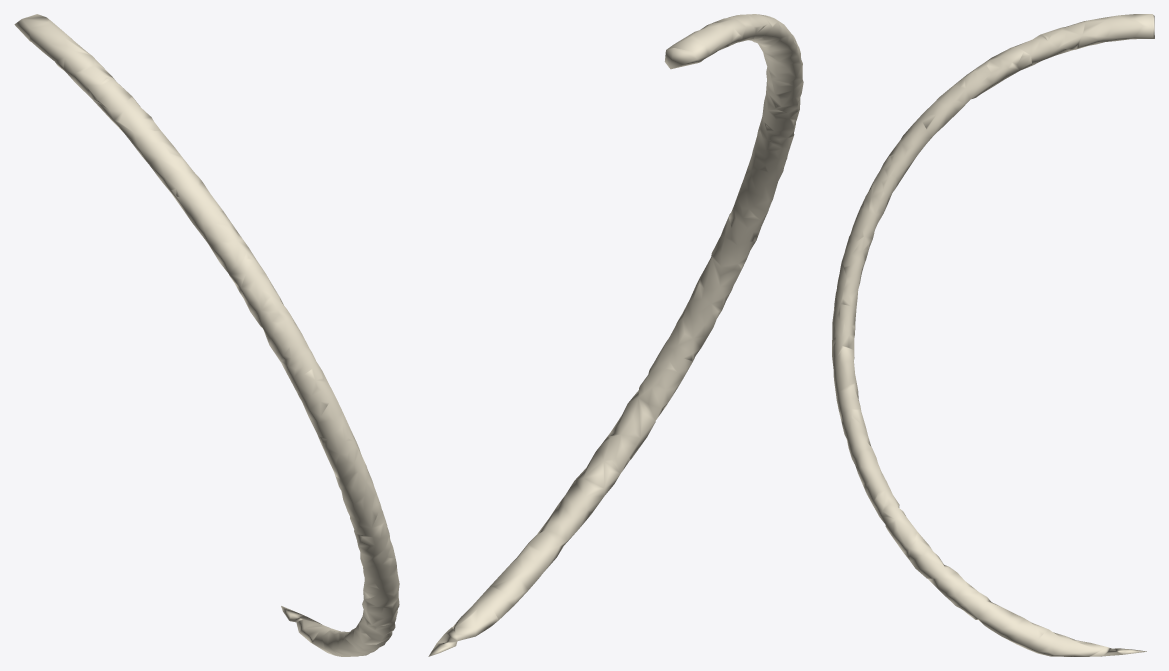
The model's file is rib_6_l.glb.
3 views of the same model, side by side, from view 1: azimuth 30°, elevation 25°; view 2: azimuth 150°, elevation 25°; view 3: azimuth 270°, elevation 25° (orthographic). The views are drawn at different scales.
Parts seen in each view (by area): view 1: geometry_0; view 2: geometry_0; view 3: geometry_0.
Boxes of the visible parts, x1,y1,x2,y2 form: geometry_0: [14, 14, 399, 656]; geometry_0: [428, 14, 803, 656]; geometry_0: [832, 14, 1154, 656].
Size of the model in its own units: 0.2998 by 0.6722 by 0.3671.
